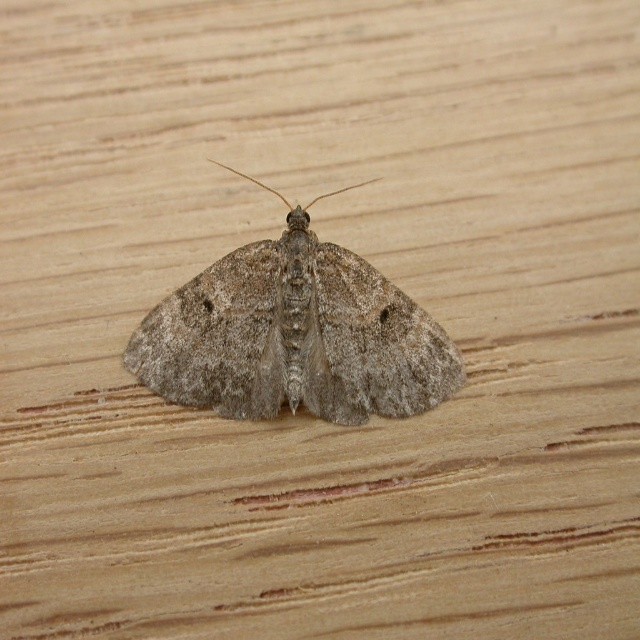Butterfly: (127, 140, 466, 426)
